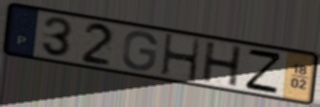2: (79, 21, 116, 69)
3: (39, 16, 74, 59)
G: (120, 29, 160, 72)
H: (160, 32, 202, 83), (201, 41, 245, 89)
Z: (244, 47, 283, 95)
